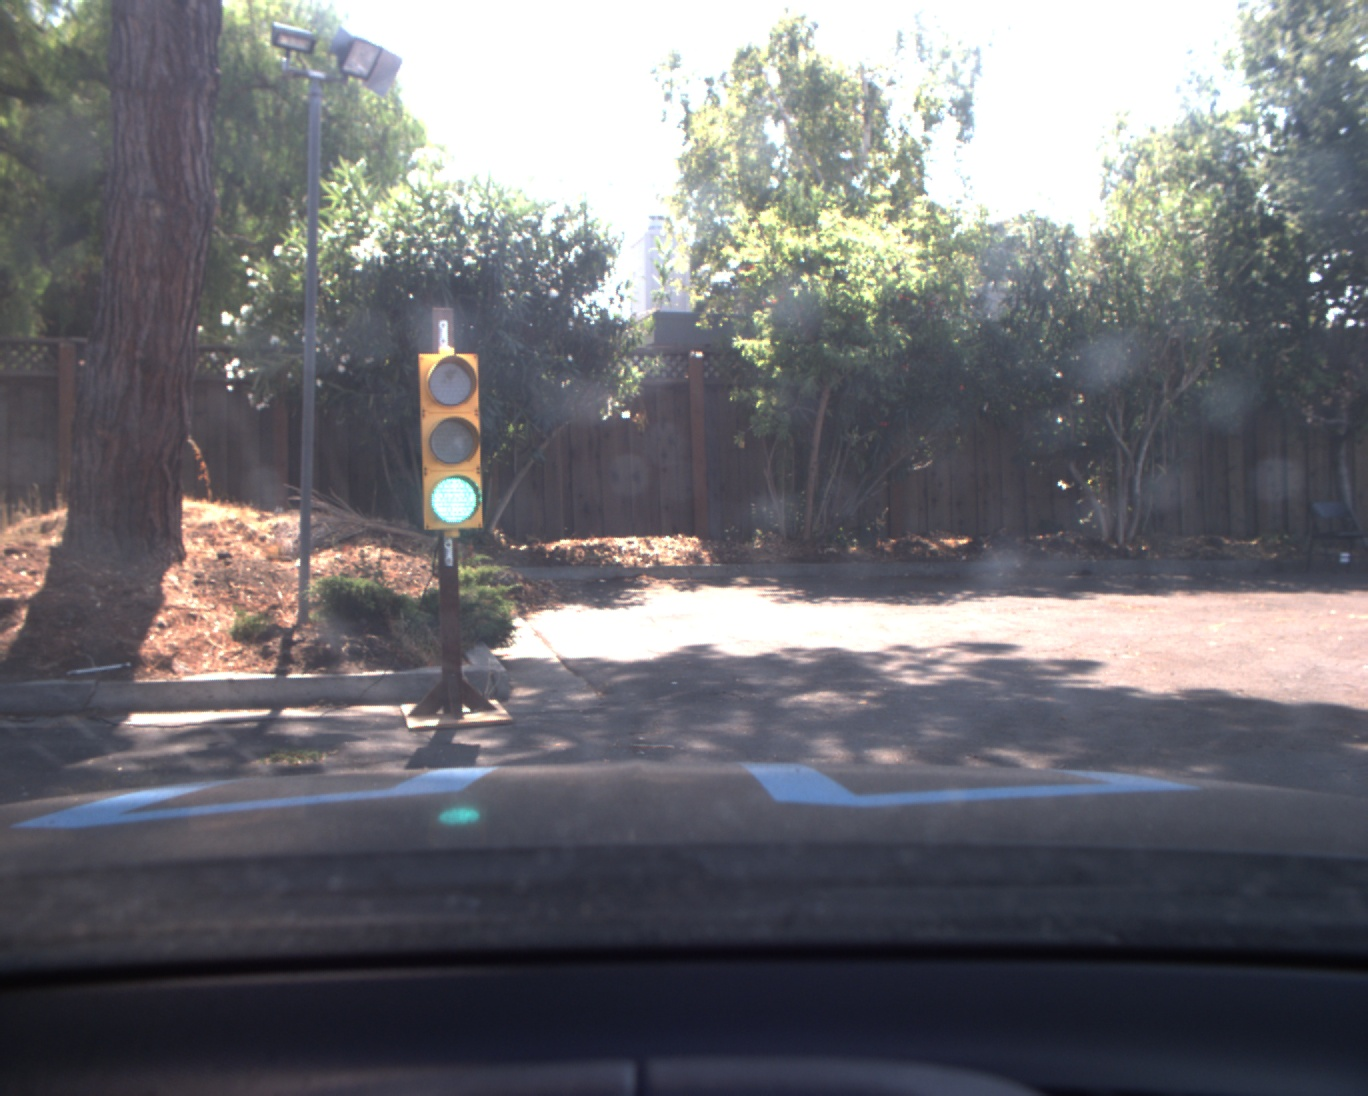green: (416, 352, 480, 528)
